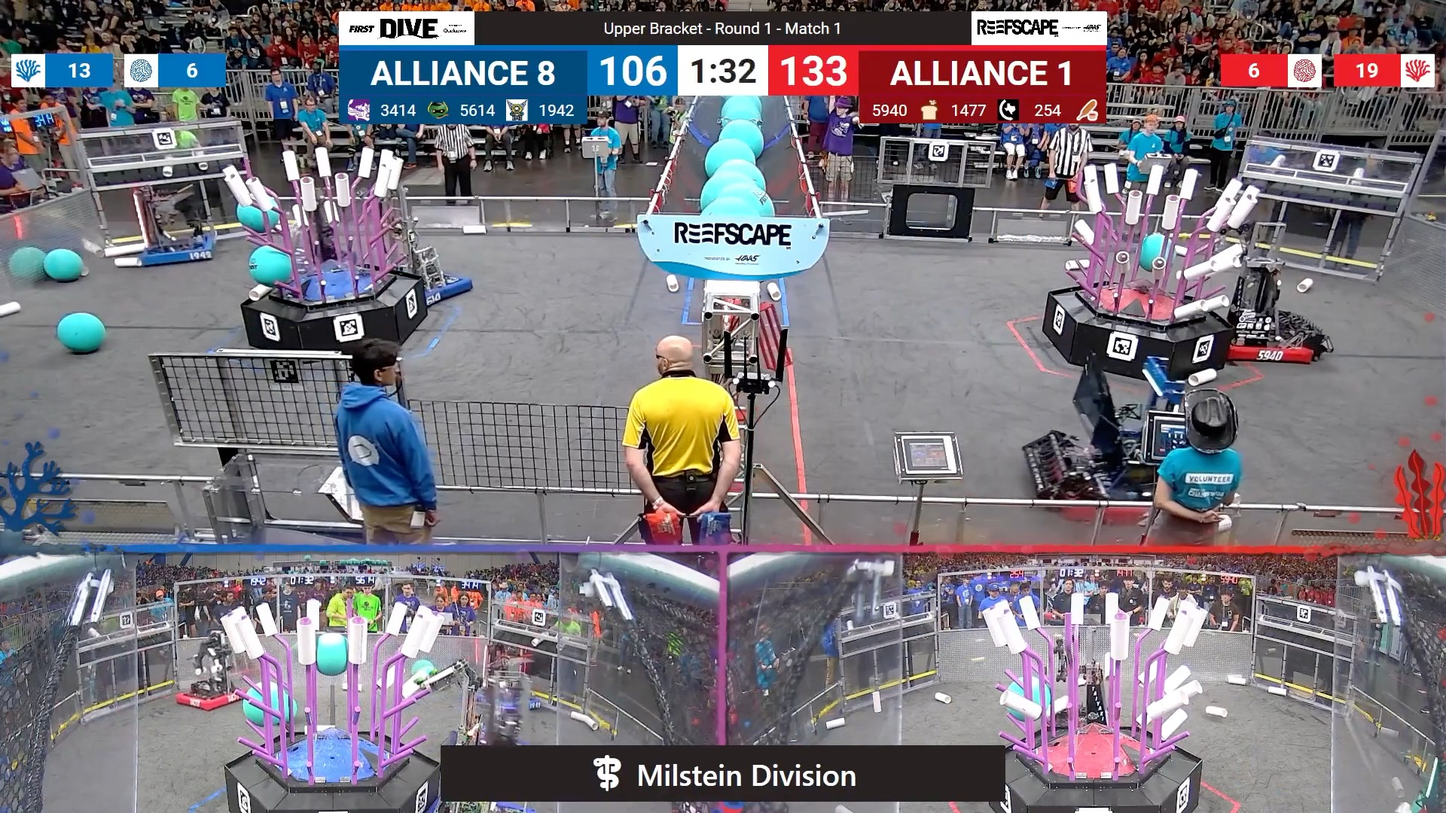bumpers: (1029, 438, 1174, 525), (1220, 316, 1329, 376), (391, 259, 479, 304), (130, 234, 223, 274), (175, 685, 256, 715)
